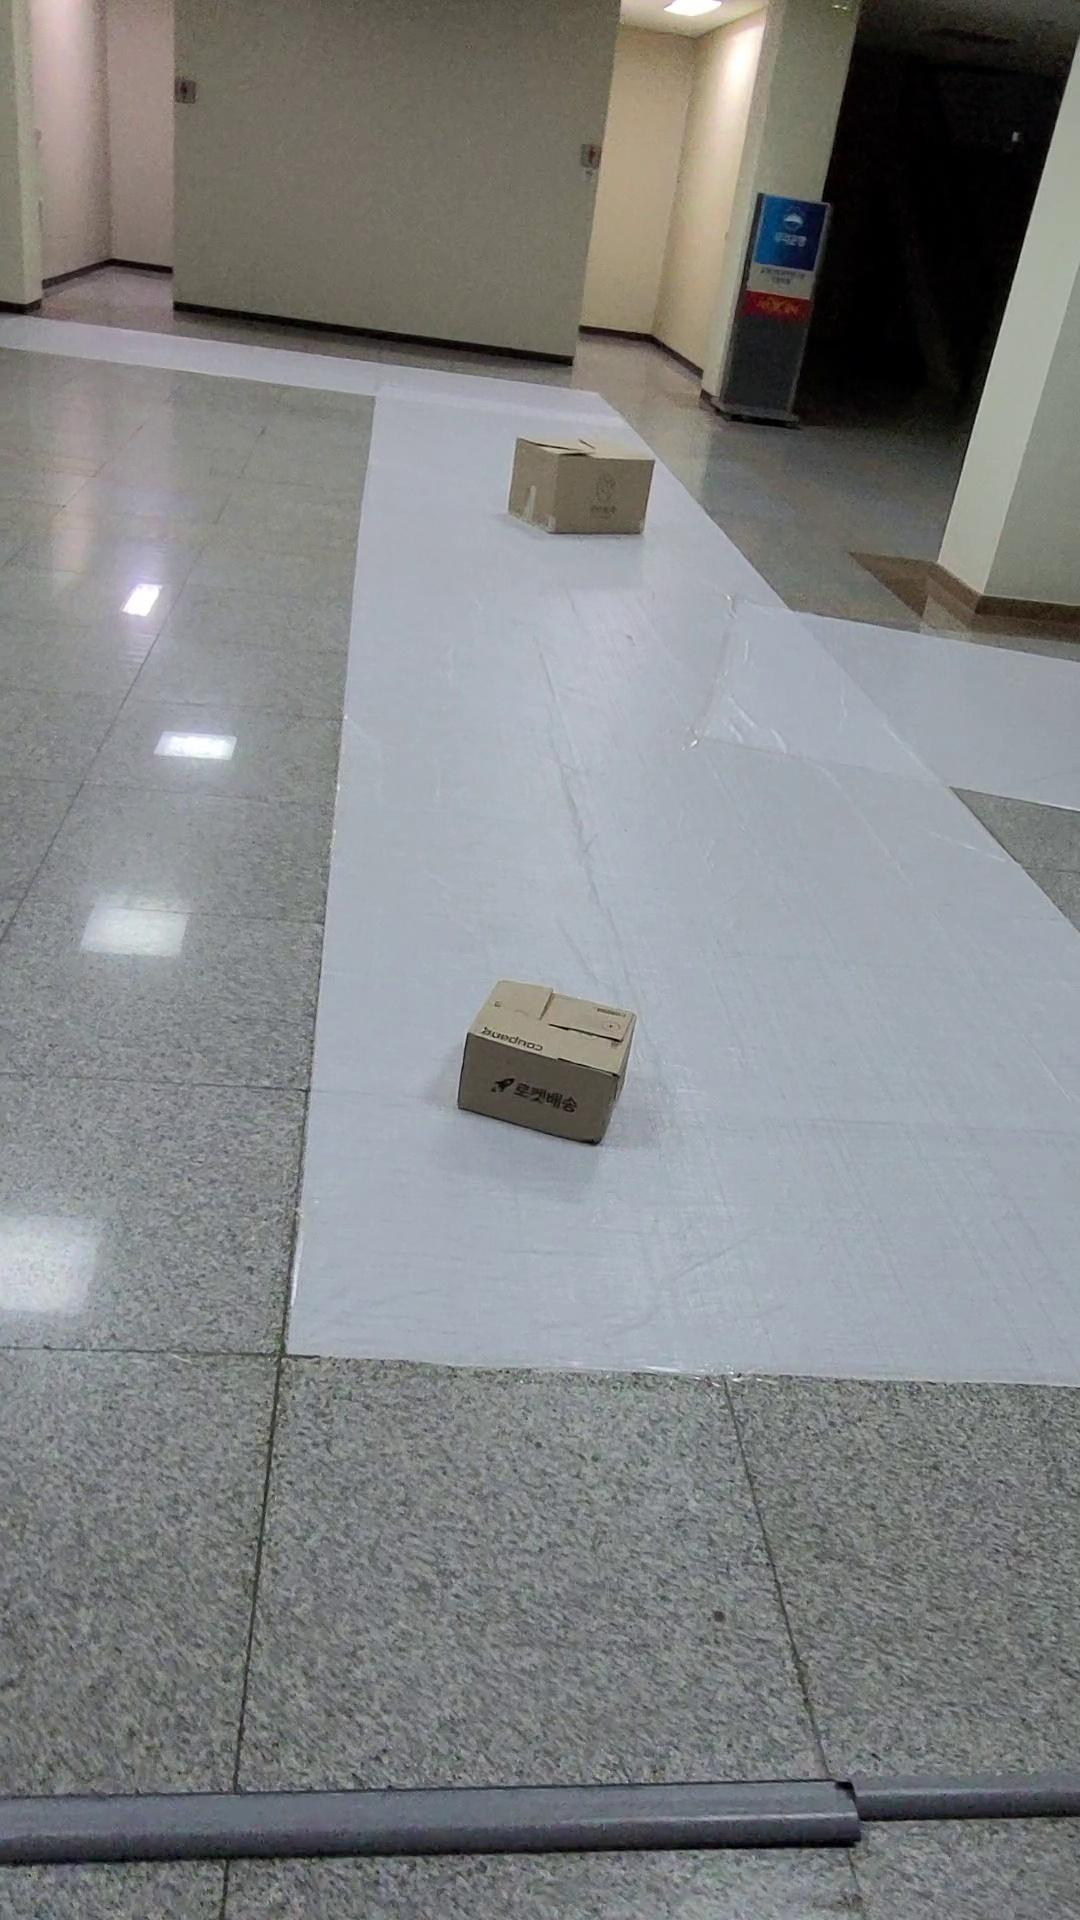Box: (448, 953, 647, 1170), (501, 423, 670, 549)
